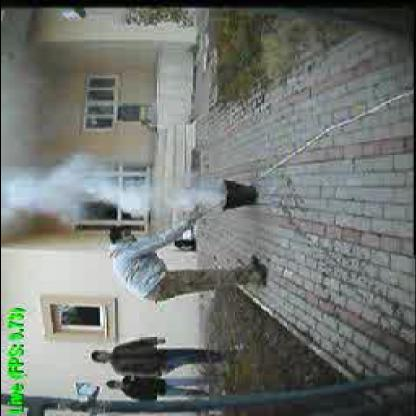Smoke: (0, 154, 220, 224)
